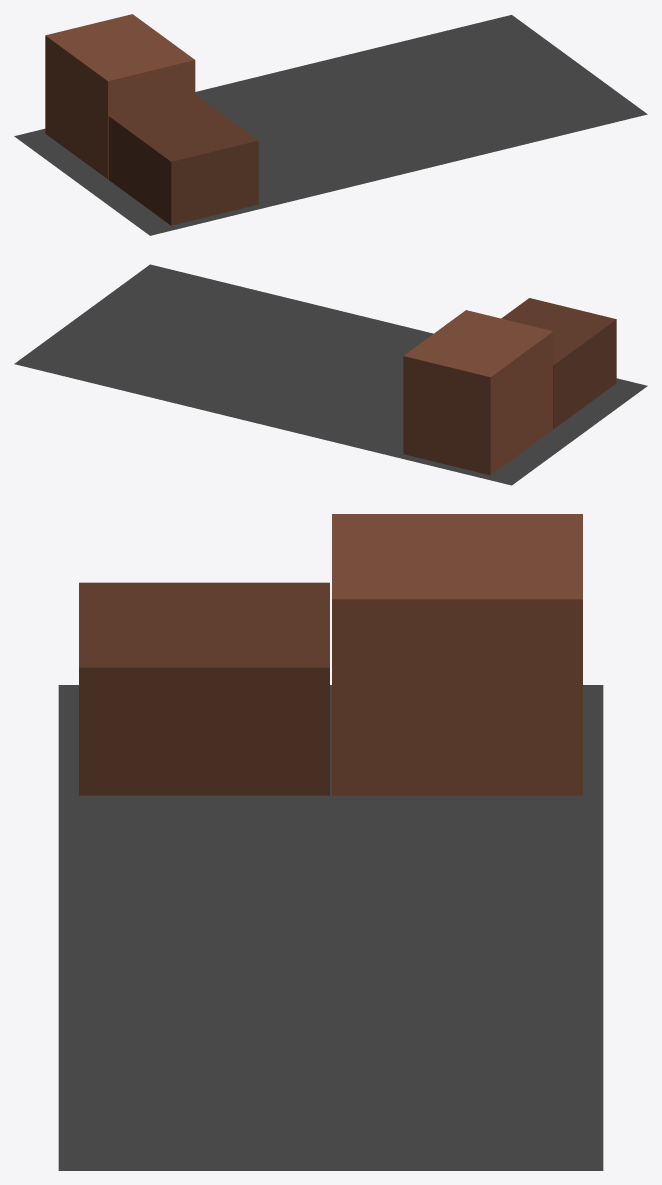
File: city_left3.glb
3 views of the same model, one above another, from view 1: azimuth 30°, elevation 25°; view 2: azimuth 150°, elevation 25°; view 3: azimuth 270°, elevation 25° (orthographic). The views are drawn at different scales.
Visible parts, largest first — view 1: Plane.009, Cube.013, Cube.014; view 2: Plane.009, Cube.014, Cube.013; view 3: Plane.009, Cube.014, Cube.013.
Part boxes in pixels (x1,y1,x2,y2): Plane.009: (14, 15, 647, 235); Cube.013: (108, 94, 258, 225); Cube.014: (45, 14, 195, 179); Plane.009: (14, 264, 647, 485); Cube.014: (403, 310, 553, 475); Cube.013: (501, 298, 616, 428); Plane.009: (58, 685, 603, 1170); Cube.014: (332, 514, 582, 795); Cube.013: (79, 582, 329, 795).
Size of the model in its own units: 57 by 10.74 by 27.
